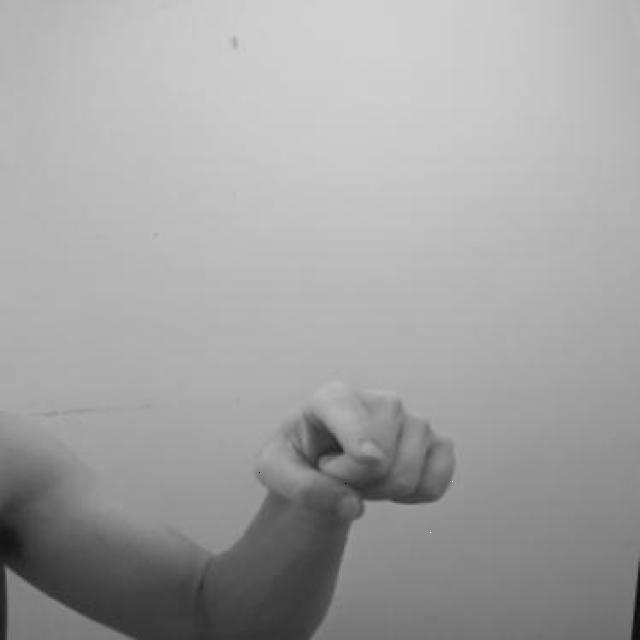Z: (246, 369, 472, 538)
